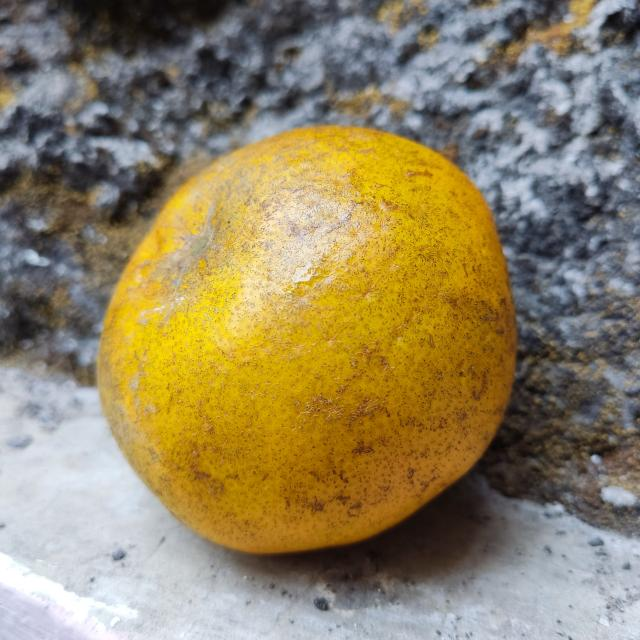orange: (100, 124, 518, 557)
